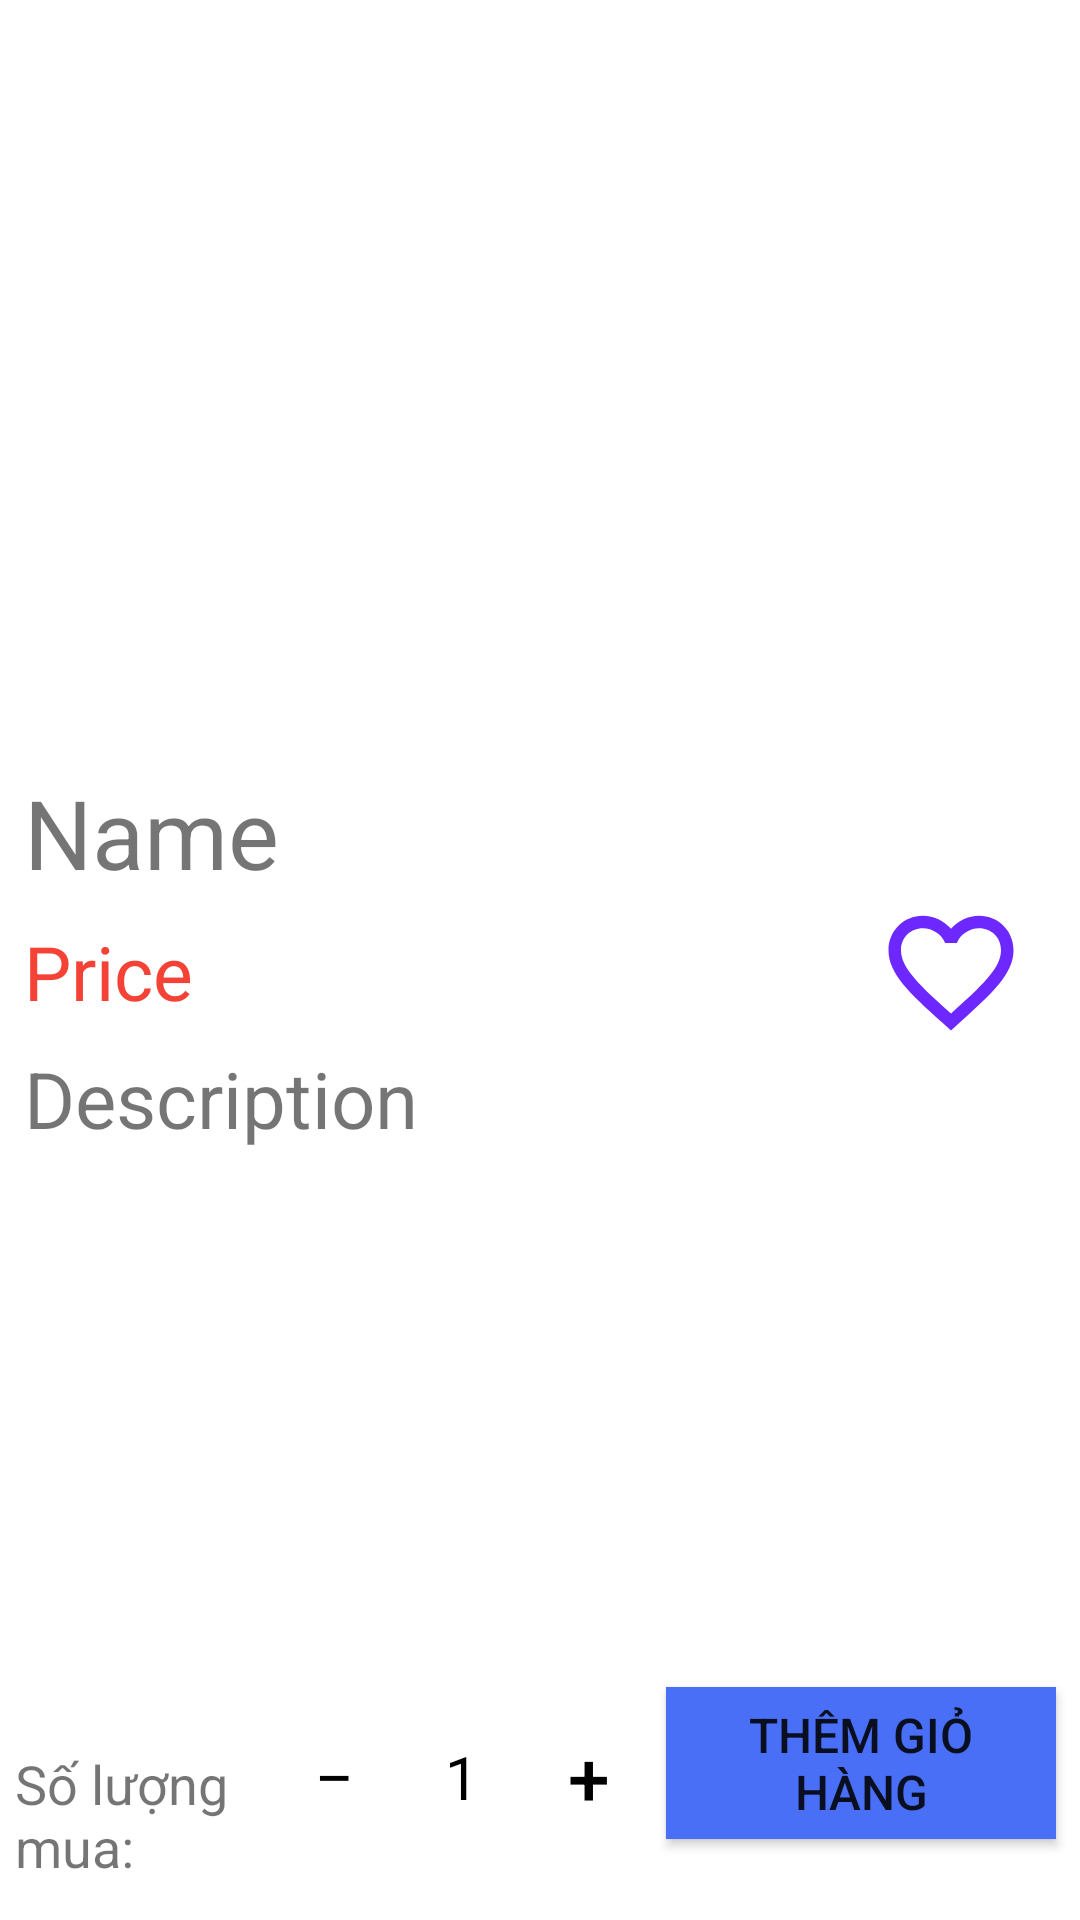

Icons on this 1080x1920 Android screen, each with the point to tap as (x=x, y=y):
favorite border: (x=951, y=973)
